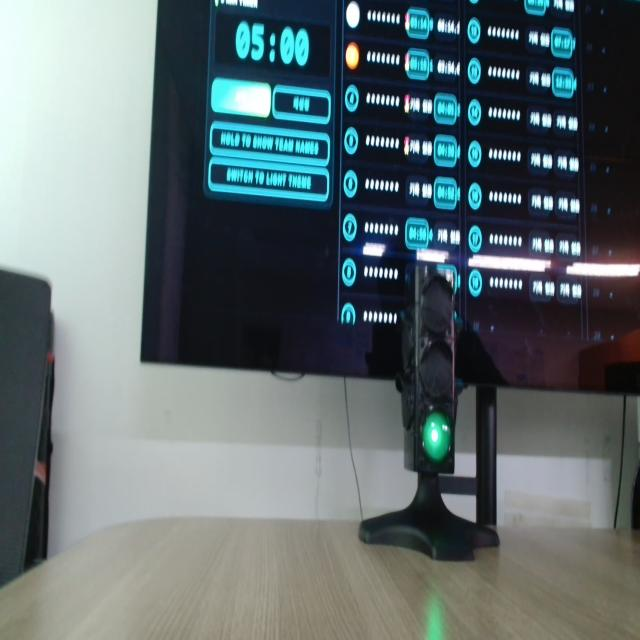green_light: (423, 412, 451, 463)
